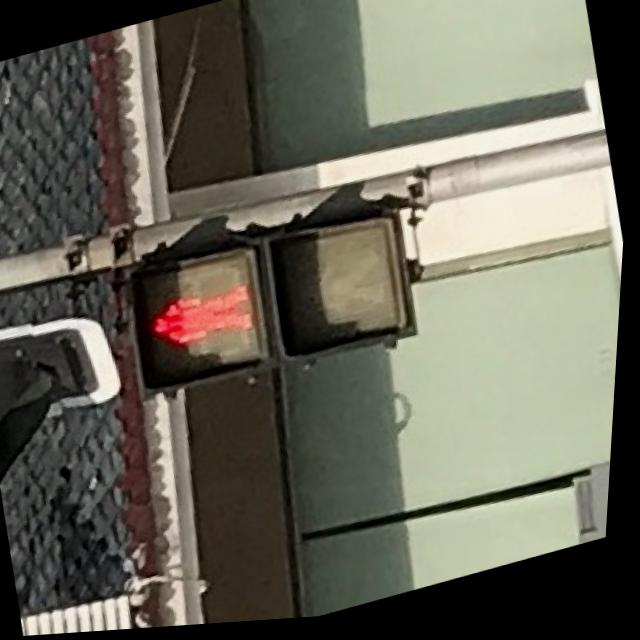red_light: (131, 248, 276, 382)
